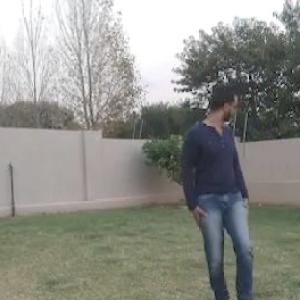follow: (190, 77, 249, 299)
